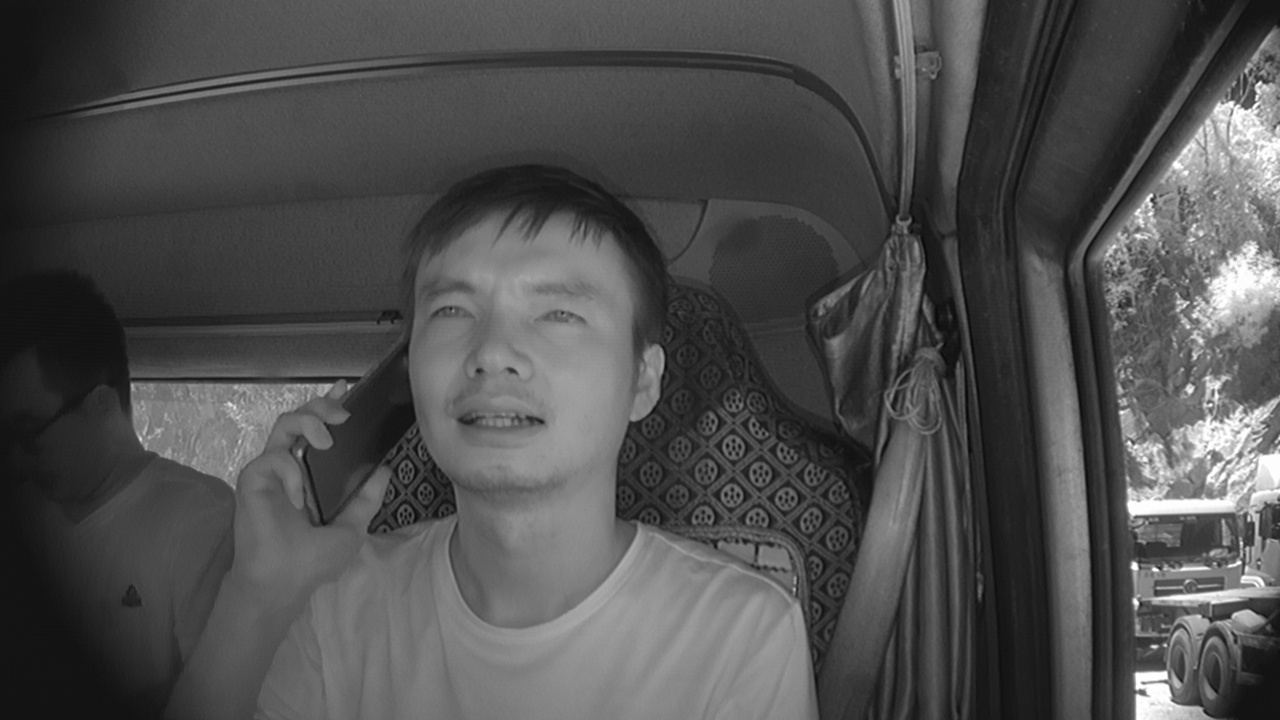hand: (232, 376, 388, 588)
